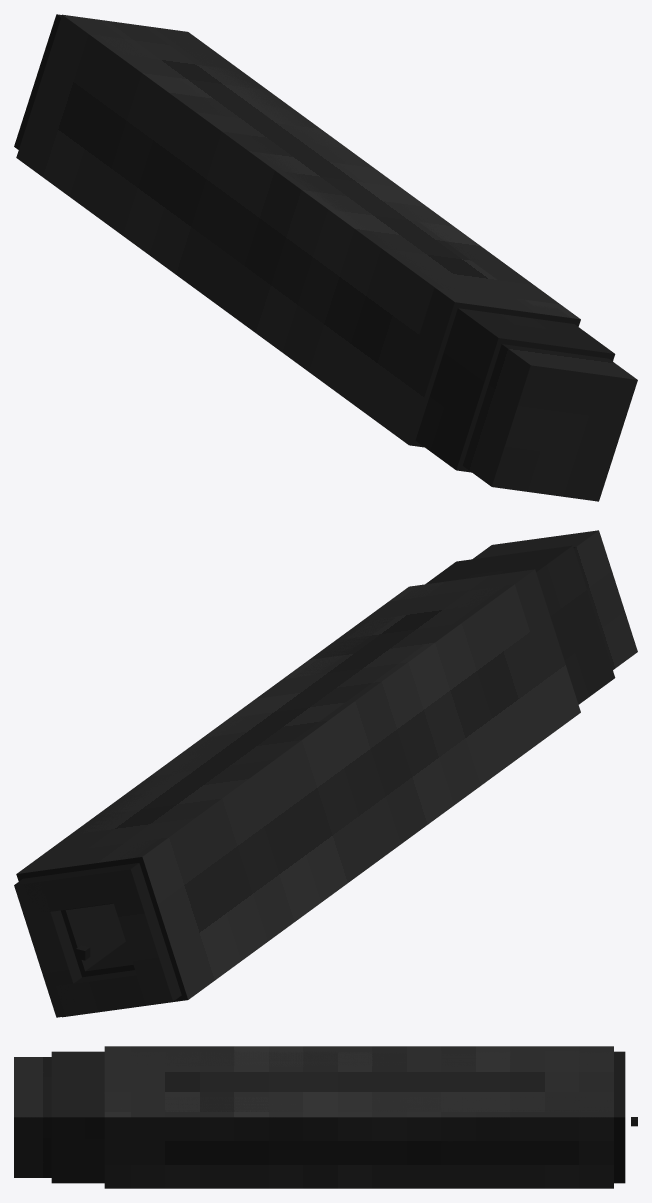
Rendered from c_dsxd.geo.fbx.
The picture shows the model from 3 angles, top to bottom: view 1: azimuth 30°, elevation 25°; view 2: azimuth 150°, elevation 25°; view 3: azimuth 270°, elevation 25°; orthographic projection. The views are drawn at different scales.
Parts seen in each view (by area): view 1: gun; view 2: gun; view 3: gun.
Boxes of the visible parts, <box> form: gun: <box>14,14,637,501</box>; gun: <box>14,530,637,1017</box>; gun: <box>14,1046,625,1188</box>.
Size of the model in its own units: 23.47 by 23.47 by 114.
Materials: 1 (1 with a texture image).
